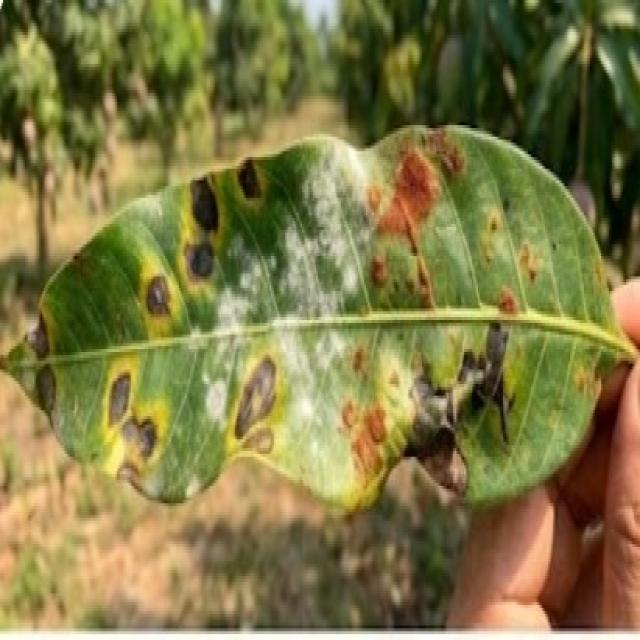Anthracnose: (241, 353, 281, 428), (187, 181, 222, 238), (147, 279, 175, 324), (110, 366, 129, 425), (121, 429, 154, 455)
Powdery Mildew: (286, 235, 322, 292), (313, 174, 344, 235), (217, 291, 245, 333), (204, 386, 228, 432)
